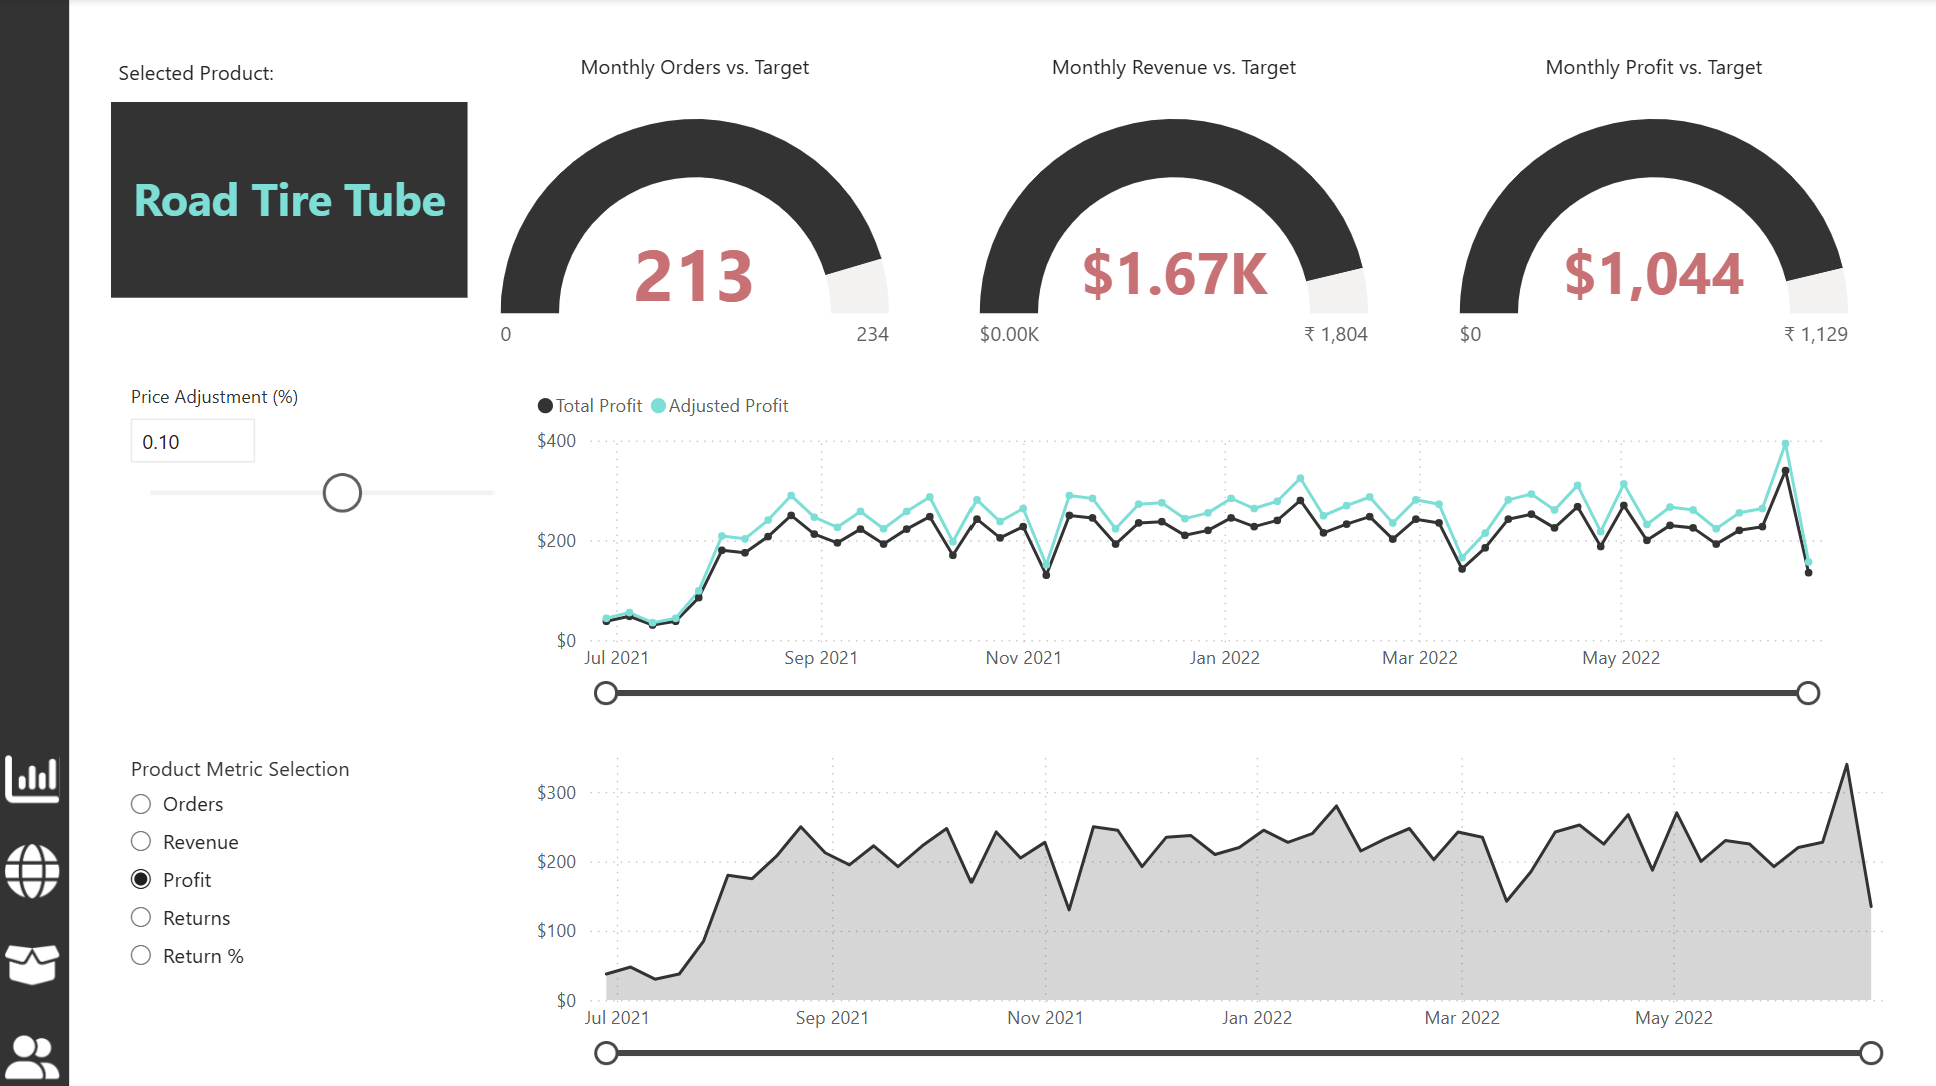

The page's visual inventory and layout, read from the dashboard file:
{"tool":"powerbi","page":{"name":"Product Detail","canvas":[1280,720],"ordinal":2},"visuals":[{"type":"gauge","title":"Monthly Orders vs. Target","fields":{"MaxValue":["Measure Table.Order Target"],"Y":["Measure Table.Total Orders"]},"box":[325.3,36.2,266.2,226.4],"z":0},{"type":"gauge","title":"Monthly Profit vs. Target","fields":{"MaxValue":["Measure Table.Profit Target"],"Y":["Measure Table.Total Profit"]},"box":[956.5,36.2,266.2,226.4],"z":1000},{"type":"gauge","title":"Monthly Revenue vs. Target","fields":{"MaxValue":["Measure Table.Revenue Target"],"Y":["Measure Table.Total Revenue"]},"box":[640.9,36.2,266.2,226.4],"z":2000},{"type":"areaChart","title":"Profit Trending","fields":{"Category":["Calendar Lookup.Start of Week"],"Y":["Measure Table.Total Profit","Measure Table.Adjusted Profit"]},"box":[348.8,248.8,873.8,220],"z":3000},{"type":"areaChart","title":"Return Trending","fields":{"Category":["Calendar Lookup.Start of Week"],"Y":["Measure Table.Total Profit"]},"box":[348.8,486.2,915,220],"z":4000},{"type":"card","fields":{"Values":["Min(Product Lookup.ProductName)"]},"box":[73.2,68.3,235,128.8],"z":5000},{"type":"textbox","box":[73.2,34.6,126.2,33.8],"z":6000},{"type":"shape","title":"Left Nav Background","box":[0,0,46.2,720],"z":7000},{"type":"actionButton","box":[0.6,492.5,46.2,43.8],"z":8000},{"type":"actionButton","box":[0.6,615,46.2,43.8],"z":9000},{"type":"actionButton","box":[0.6,676.2,46.2,43.8],"z":10000},{"type":"actionButton","box":[0.6,553.8,46.2,43.8],"z":11000},{"type":"slicer","fields":{"Values":["Price Adjustment (%).Price Adjustment (%)"]},"box":[73.8,248.8,275,135],"z":12000},{"type":"slicer","fields":{"Values":["Product Metric Selection.Product Metric Selection"]},"box":[73.8,492.5,275,183.8],"z":13000}]}

Visuals, with their boxes on the page's 1280x720 design canvas (x1, y1, x2, y2). These are canvas units, not pixel positions in the 1936x1086 screenshot, which may show the page scaled, cropped or inside an application window:
"Monthly Orders vs. Target" gauge: [325, 36, 592, 263]
"Monthly Profit vs. Target" gauge: [956, 36, 1223, 263]
"Monthly Revenue vs. Target" gauge: [641, 36, 907, 263]
"Profit Trending" areaChart: [349, 249, 1223, 469]
"Return Trending" areaChart: [349, 486, 1264, 706]
card - Min(Product Lookup.ProductName): [73, 68, 308, 197]
textbox: [73, 35, 199, 68]
"Left Nav Background" shape: [0, 0, 46, 720]
actionButton: [1, 492, 47, 536]
actionButton: [1, 615, 47, 659]
actionButton: [1, 676, 47, 720]
actionButton: [1, 554, 47, 598]
slicer - Price Adjustment (%).Price Adjustment (%): [74, 249, 349, 384]
slicer - Product Metric Selection.Product Metric Selection: [74, 492, 349, 676]
